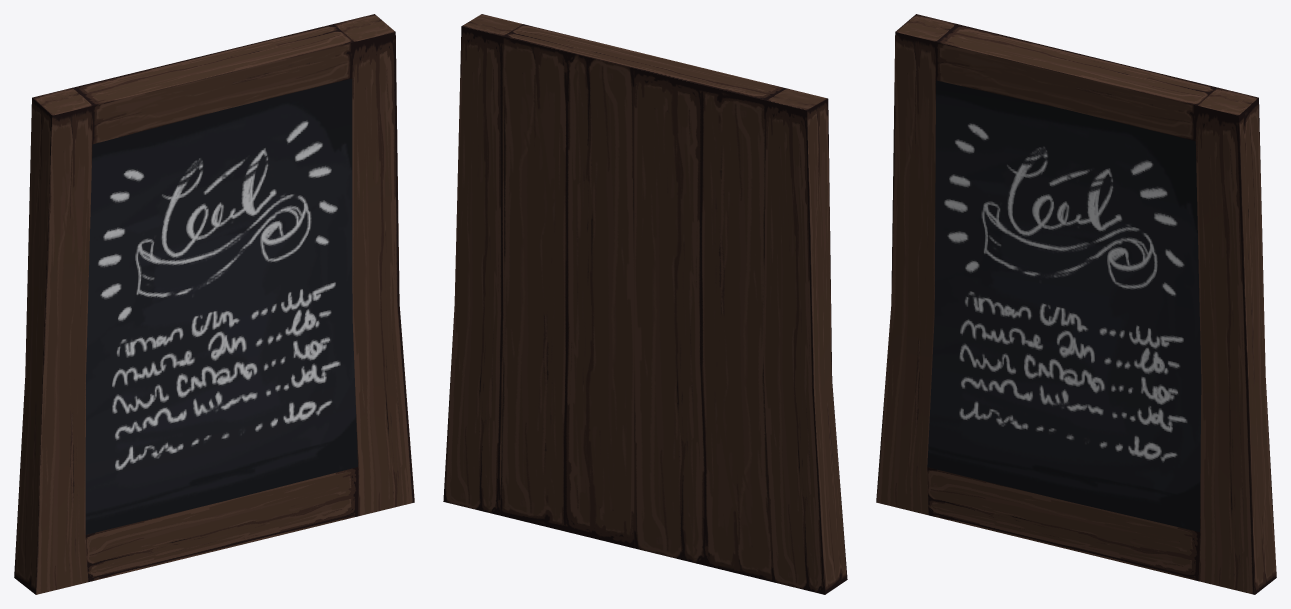
The model's file is SM_PROP_infoboard_city_03.fbx.
3 renders of one model, left to right at view 1: azimuth 30°, elevation 25°; view 2: azimuth 150°, elevation 25°; view 3: azimuth 330°, elevation 25°, orthographic.
Parts seen in each view (by area): view 1: SM_PROP_infoboard_city_03; view 2: SM_PROP_infoboard_city_03; view 3: SM_PROP_infoboard_city_03.
Part boxes in pixels (x1,y1,x2,y2): SM_PROP_infoboard_city_03: [14, 14, 414, 594]; SM_PROP_infoboard_city_03: [443, 14, 847, 594]; SM_PROP_infoboard_city_03: [876, 14, 1276, 594].
Bounding box in the file's own units: 68.66 × 82.57 × 6.91.
